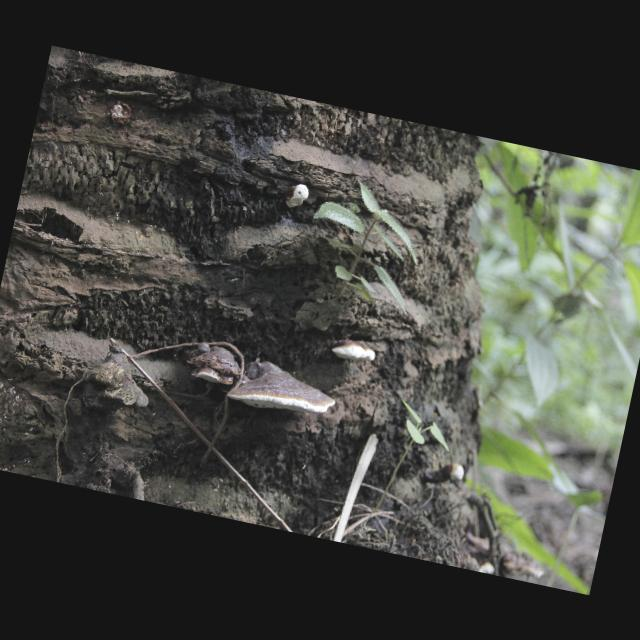ganoderma: (226, 356, 342, 425), (184, 340, 248, 389), (331, 337, 378, 367)
primordium: (284, 182, 312, 212), (444, 461, 468, 485)
